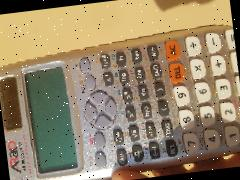electronic: (0, 0, 202, 180)
